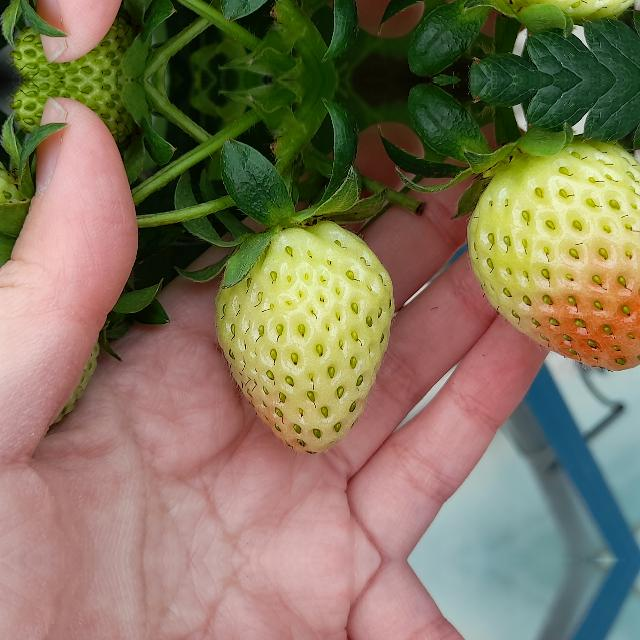Health_50: (466, 134, 640, 380), (214, 220, 393, 454)
